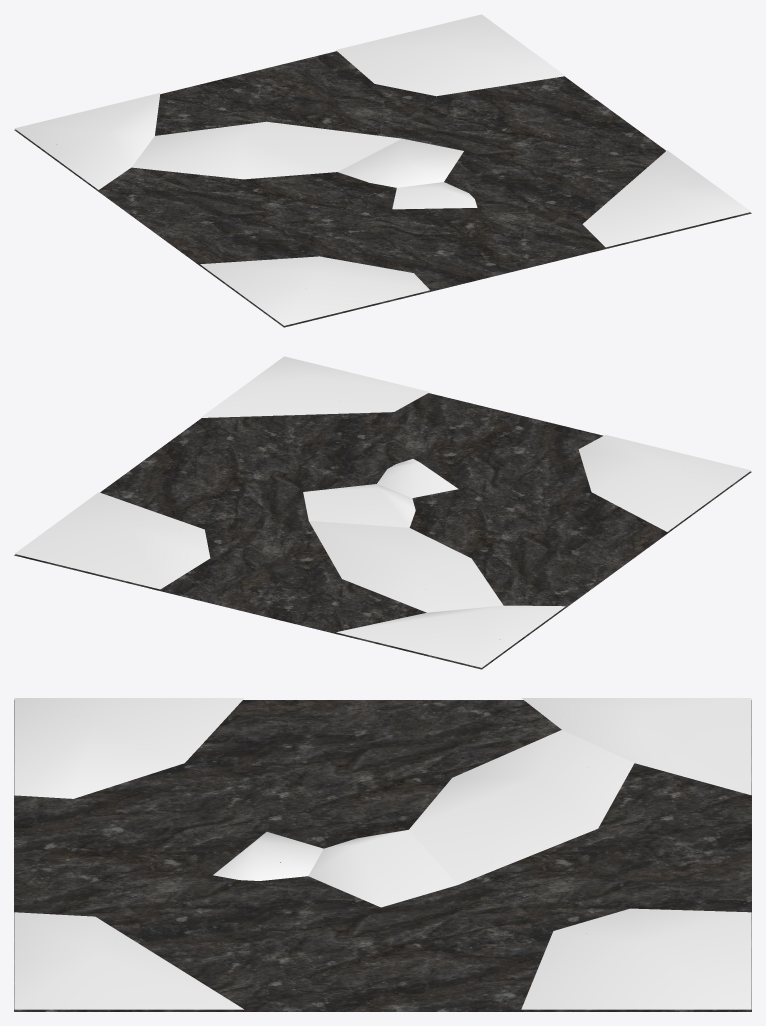
Rendered from garden-06-art.glb.
3 renders of one model, top to bottom at view 1: azimuth 30°, elevation 25°; view 2: azimuth 150°, elevation 25°; view 3: azimuth 270°, elevation 25°, orthographic. The views are drawn at different scales.
Parts seen in each view (by area): view 1: Garden_06_Art; view 2: Garden_06_Art; view 3: Garden_06_Art.
Part boxes in pixels (box(x1,y1,x2,y2)): Garden_06_Art: box(14, 14, 751, 327); Garden_06_Art: box(14, 356, 751, 669); Garden_06_Art: box(14, 698, 751, 1011).
Bounding box in the file's own units: 15.98 × 0.5015 × 15.98.
2 materials, 2 textured.
